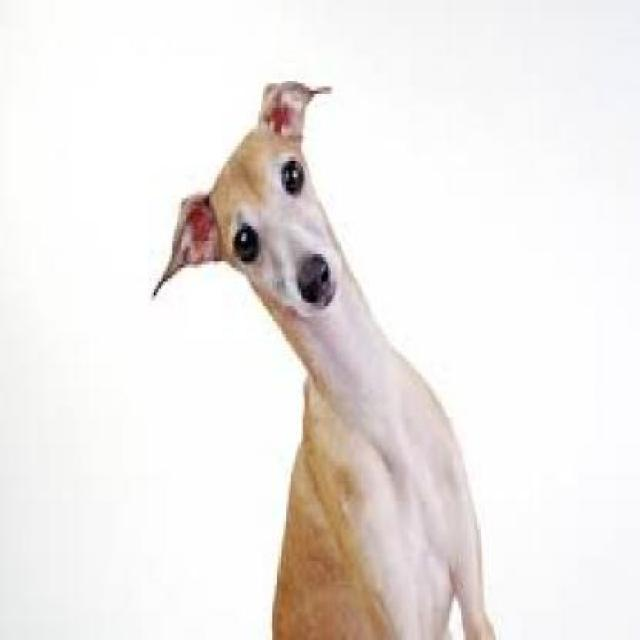animals: (128, 47, 517, 640), (127, 78, 391, 605)
